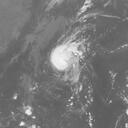cyclone: (51, 44, 84, 71)
